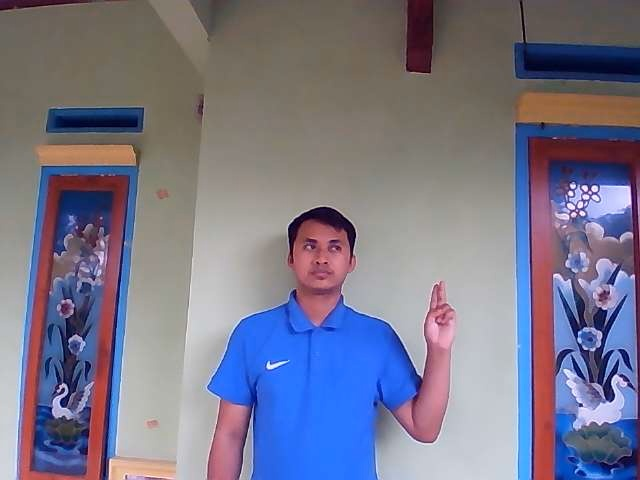U: (420, 280, 458, 349)
